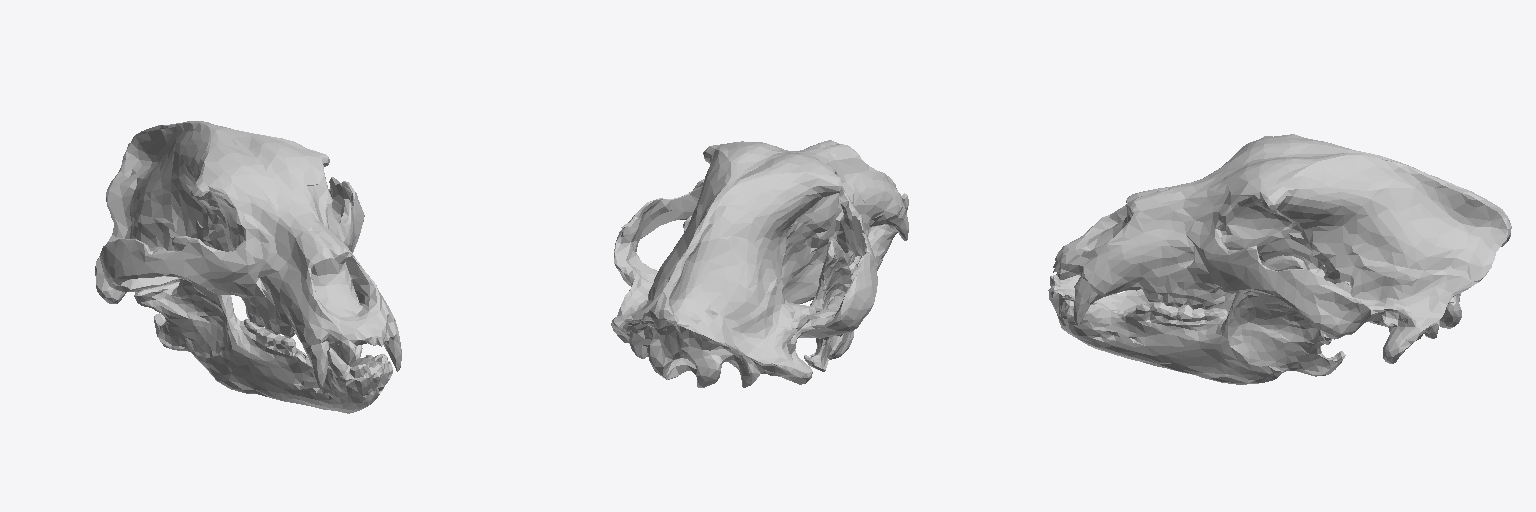
File: skull.obj
3 renders of one model, left to right at view 1: azimuth 30°, elevation 25°; view 2: azimuth 150°, elevation 25°; view 3: azimuth 270°, elevation 25°, orthographic.
Visible parts, largest first — view 1: bear_skull_combined; view 2: bear_skull_combined; view 3: bear_skull_combined.
Part boxes in pixels (x1,y1,x2,y2): bear_skull_combined: (95,121,401,413); bear_skull_combined: (611,140,908,387); bear_skull_combined: (1048,134,1511,384).
Bounding box in the file's own units: 1.3 × 1.05 × 2.11.